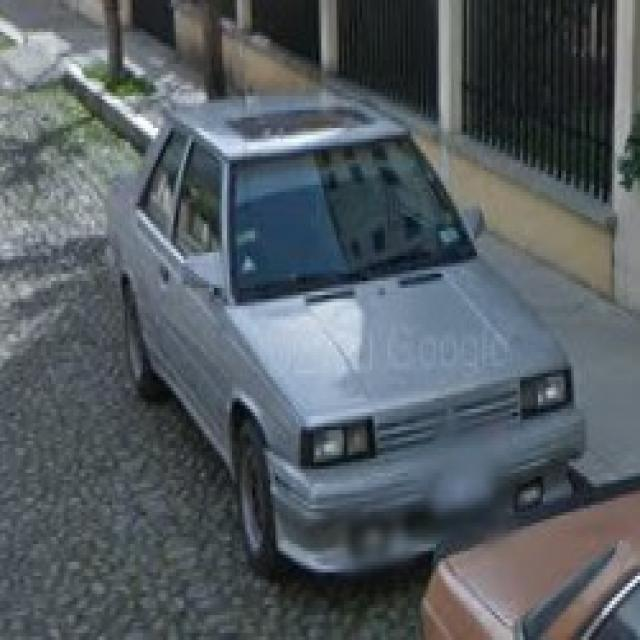cars: (106, 93, 583, 567)
